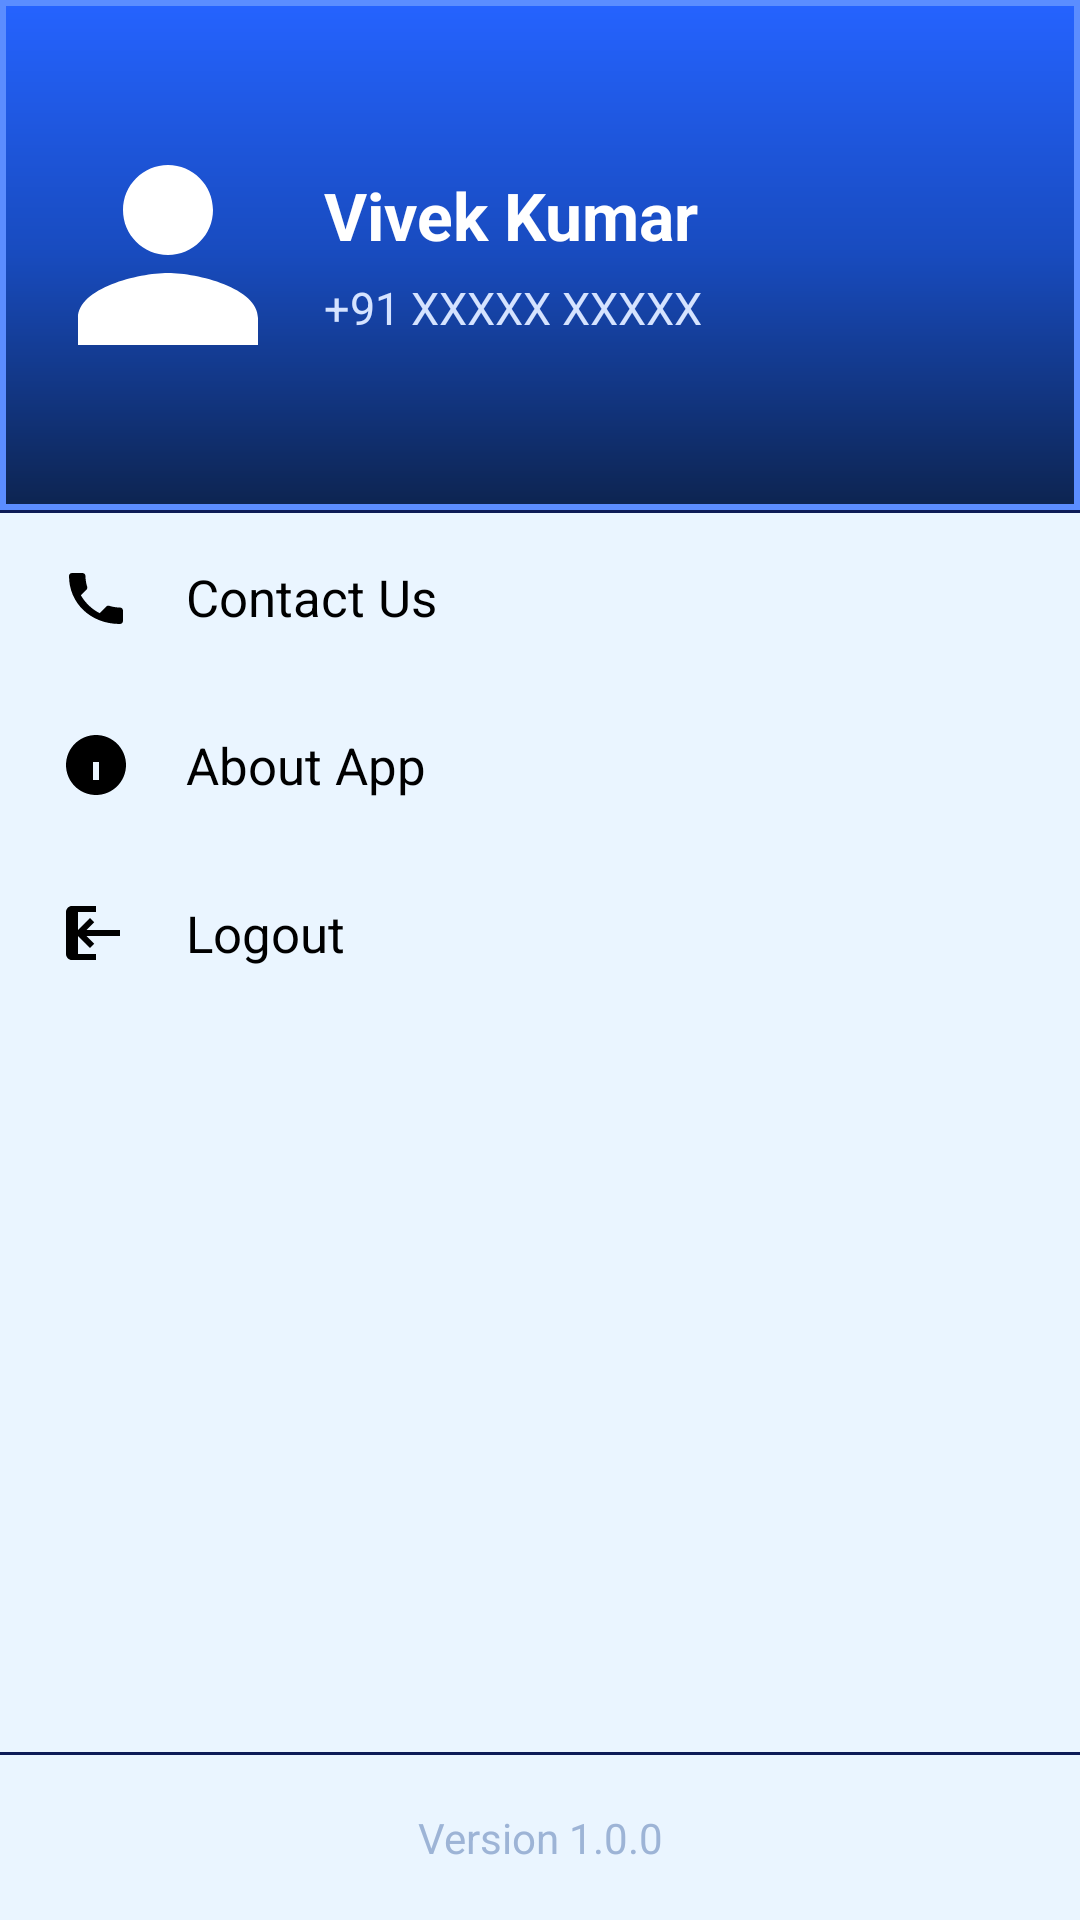

Icon click points for this 1080 x 1920 phone screenshot, format point (x, y):
profile: point (168, 255)
